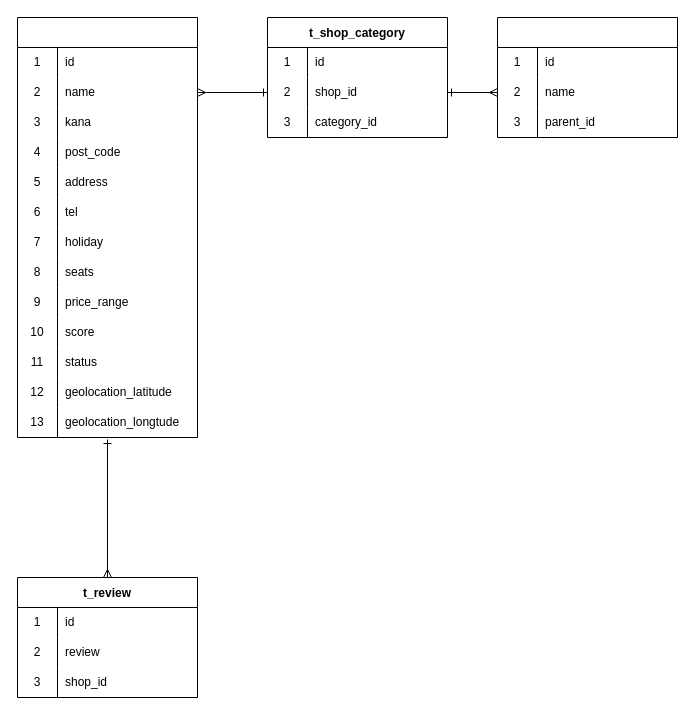
This 695x715 diagram has some shape labels left out. Each missing label, with the box of its shape:
m_category: (496, 16, 678, 138)
t_shop: (16, 16, 198, 438)
